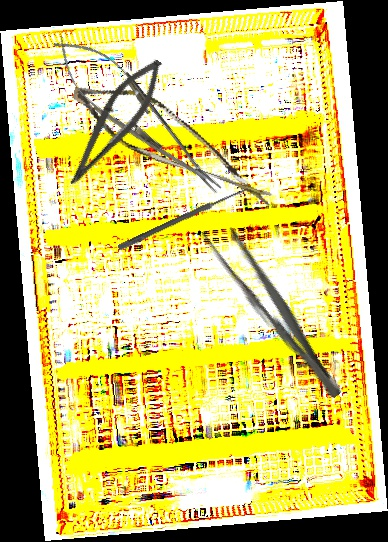Dressing Forceps: (196, 215, 352, 406)
Micro Scissor: (58, 73, 294, 208), (60, 49, 172, 197)
Needle Holder: (39, 22, 237, 211)
Surgical Spoon: (117, 183, 253, 252)
